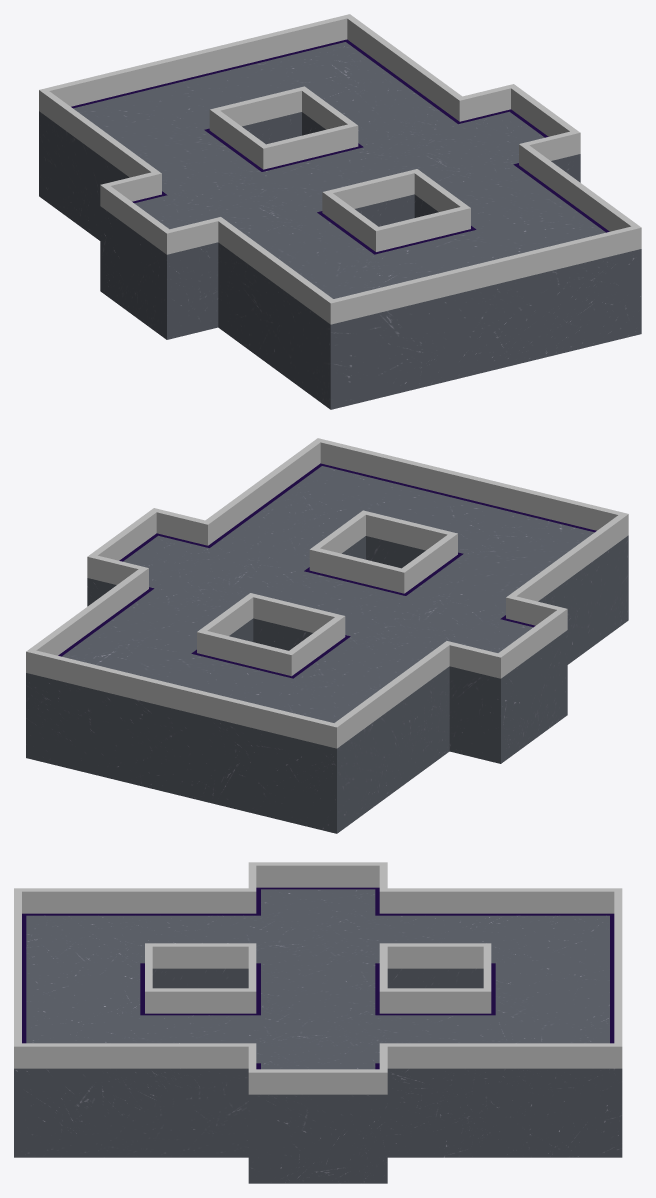
Rendered from Battle_Stage 34.fbx.
3 views of the same model, one above another, from view 1: azimuth 30°, elevation 25°; view 2: azimuth 150°, elevation 25°; view 3: azimuth 270°, elevation 25° (orthographic). The views are drawn at different scales.
Visible parts, largest first — view 1: NY_Platform_Cube__3_, NY_Platform_Cube__3_.001, NY_Platform_Cube__3_.002; view 2: NY_Platform_Cube__3_, NY_Platform_Cube__3_.001, NY_Platform_Cube__3_.002; view 3: NY_Platform_Cube__3_, NY_Platform_Cube__3_.001, NY_Platform_Cube__3_.002.
Boxes of the visible parts, <box> form: NY_Platform_Cube__3_: <box>39,42,641,409</box>; NY_Platform_Cube__3_.001: <box>39,14,641,324</box>; NY_Platform_Cube__3_.002: <box>71,39,609,254</box>; NY_Platform_Cube__3_: <box>26,466,628,833</box>; NY_Platform_Cube__3_.001: <box>26,438,628,748</box>; NY_Platform_Cube__3_.002: <box>58,463,596,678</box>; NY_Platform_Cube__3_: <box>14,889,622,1183</box>; NY_Platform_Cube__3_.001: <box>14,862,622,1094</box>; NY_Platform_Cube__3_.002: <box>22,887,614,1069</box>.
Size of the model in its own units: 5077 by 1248 by 6407.
